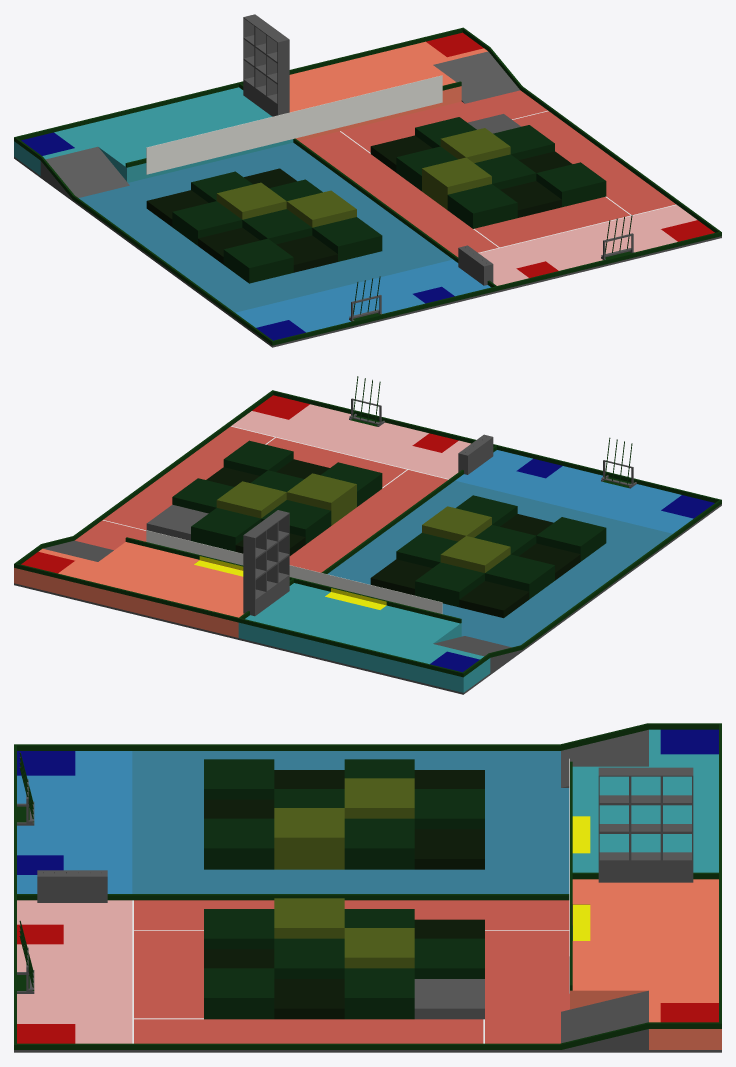
Rendered from robocon_game_field.obj.
3 renders of one model, top to bottom at view 1: azimuth 30°, elevation 25°; view 2: azimuth 150°, elevation 25°; view 3: azimuth 270°, elevation 25°, orthographic. The views are drawn at different scales.
Parts seen in each view (by area): view 1: Component36, Component11(Mirror), Component21, Component11, Component003, Component2, Component005, Component3(Mirror)001, Component3(Mirror)002, Component006, Component20, Component007 (+35 smaller); view 2: Component11(Mirror), Component11, Component36, Component003, Component2, Component3(Mirror)002, Component005, Component006, Component20, Component3(Mirror)001, Component21, Component3(Mirror)003 (+36 smaller); view 3: Component11, Component36, Component2, Component003, Component11(Mirror), Component3(Mirror)001, Component3(Mirror)003, Component007, Component006, Component005, Component20, Component3 (+39 smaller).
Part boxes in pixels (bbox=[...]): Component36: bbox=[14, 27, 721, 345]; Component11(Mirror): bbox=[14, 87, 293, 182]; Component21: bbox=[146, 75, 442, 174]; Component11: bbox=[289, 41, 487, 140]; Component003: bbox=[235, 259, 490, 332]; Component2: bbox=[479, 205, 696, 285]; Component005: bbox=[299, 131, 498, 257]; Component3(Mirror)001: bbox=[249, 142, 451, 269]; Component3(Mirror)002: bbox=[107, 209, 274, 312]; Component006: bbox=[513, 111, 675, 214]; Component20: bbox=[243, 14, 289, 116]; Component007: bbox=[341, 90, 547, 152]; Component11(Mirror): bbox=[238, 583, 490, 692]; Component11: bbox=[14, 542, 243, 637]; Component36: bbox=[14, 390, 721, 677]; Component003: bbox=[455, 450, 693, 533]; Component2: bbox=[231, 404, 470, 478]; Component3(Mirror)002: bbox=[505, 524, 671, 627]; Component005: bbox=[289, 470, 447, 572]; Component006: bbox=[103, 426, 274, 530]; Component20: bbox=[243, 510, 289, 616]; Component3(Mirror)001: bbox=[327, 481, 497, 584]; Component21: bbox=[146, 530, 442, 613]; Component3(Mirror)003: bbox=[442, 603, 543, 647]; Component11: bbox=[570, 879, 721, 1049]; Component36: bbox=[14, 723, 721, 1049]; Component2: bbox=[17, 900, 132, 1043]; Component003: bbox=[17, 751, 132, 893]; Component11(Mirror): bbox=[572, 729, 718, 872]; Component3(Mirror)001: bbox=[134, 869, 569, 893]; Component3(Mirror)003: bbox=[485, 751, 569, 868]; Component007: bbox=[485, 931, 569, 1043]; Component006: bbox=[134, 1019, 483, 1043]; Component005: bbox=[134, 900, 569, 930]; Component20: bbox=[598, 767, 693, 882]; Component3: bbox=[134, 931, 203, 1018].
Bounding box in the file's own units: 12.15 × 2.47 × 12.1.
